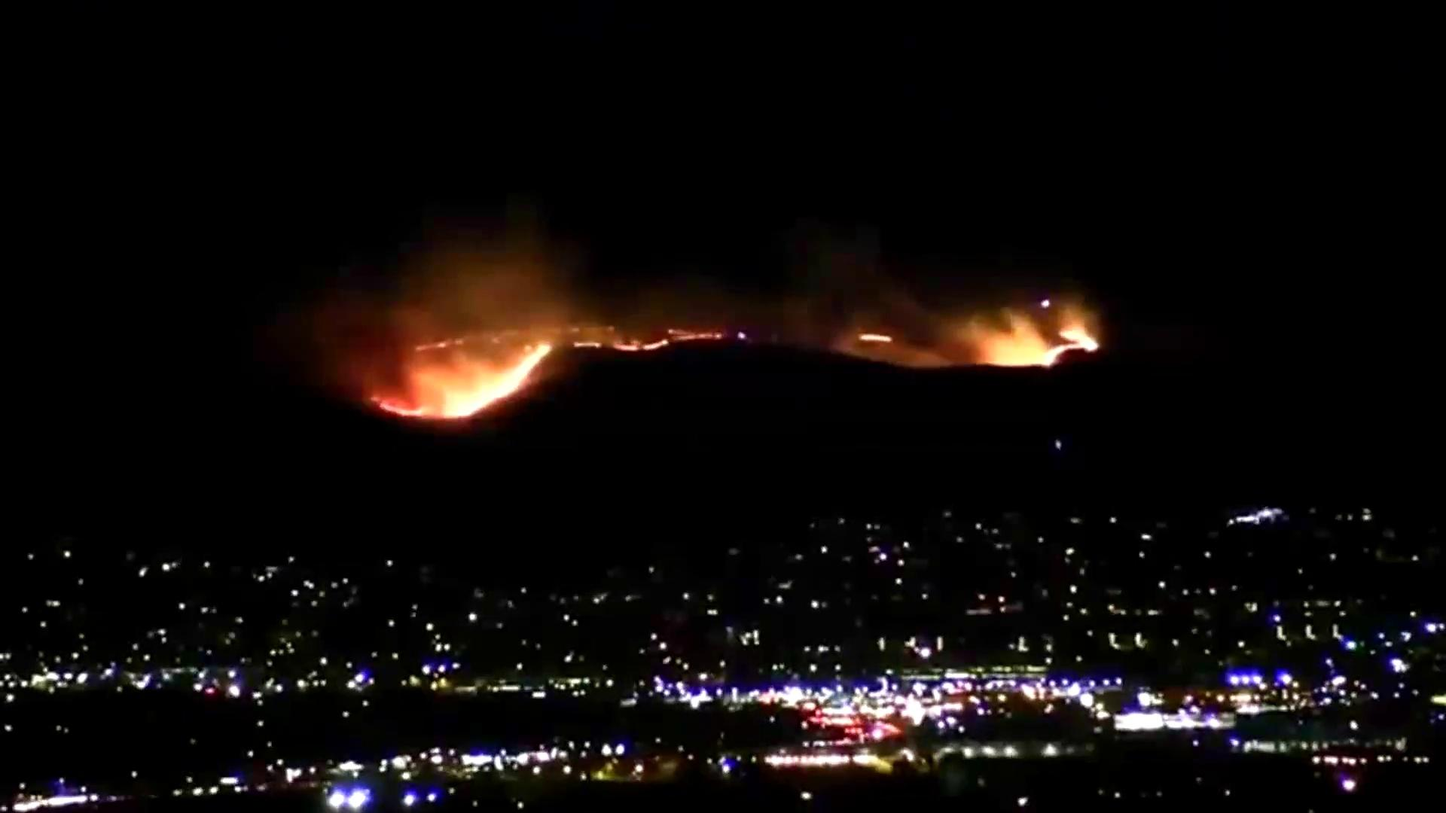fire: (377, 318, 556, 417), (983, 294, 1103, 370), (575, 323, 720, 352), (859, 333, 892, 345)
